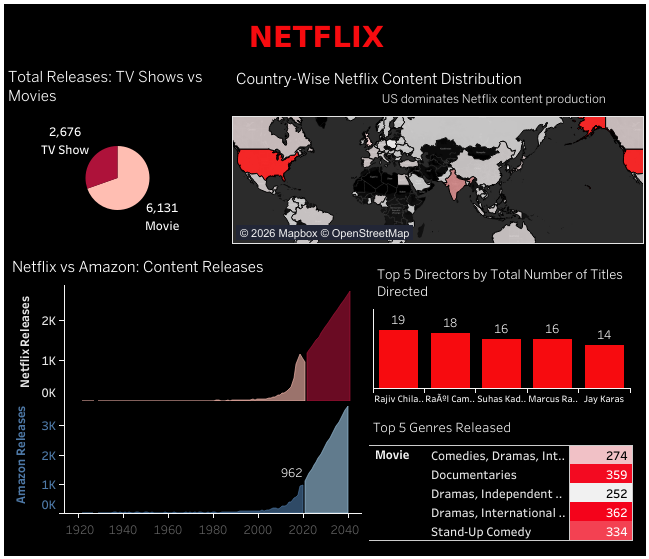

What the dashboard file says about the page in this screenshot:
{"tool":"tableau","page":{"name":"Dashboard 1","canvas":[650,860],"ordinal":0},"visuals":[{"type":"text","box":[0,0,650,860]},{"type":"text","box":[215,24.6,203,64.5]},{"type":"worksheet","title":"pie","mark":"Pie","box":[4,93.7,227,278]},{"type":"worksheet","title":"name","mark":"Automatic","box":[232,96.8,412,278]},{"type":"worksheet","title":"netflix area","mark":"Area","rows":["title"],"cols":["release_year"],"box":[8,385.5,356,230.4]},{"type":"worksheet","title":"bar","mark":"Automatic","rows":["director"],"cols":["director"],"box":[373,399.3,257,227.3]},{"type":"worksheet","title":"amazon area","mark":"Area","rows":["title (amazon!prime!titles)"],"cols":["release_year (amazon!prime!titles)"],"box":[4,615.8,357,228.8]}]}

Visuals, with their boxes on the page's 650x860 design canvas (x1, y1, x2, y2). These are canvas units, not pixel positions in the 649x559 screenshot, which may show the page scaled, cropped or inside an application window:
text: bbox=[0, 0, 650, 860]
text: bbox=[215, 25, 418, 89]
"pie" worksheet (Pie marks): bbox=[4, 94, 231, 372]
"name" worksheet: bbox=[232, 97, 644, 375]
"netflix area" worksheet (Area marks): bbox=[8, 386, 364, 616]
"bar" worksheet: bbox=[373, 399, 630, 627]
"amazon area" worksheet (Area marks): bbox=[4, 616, 361, 845]
